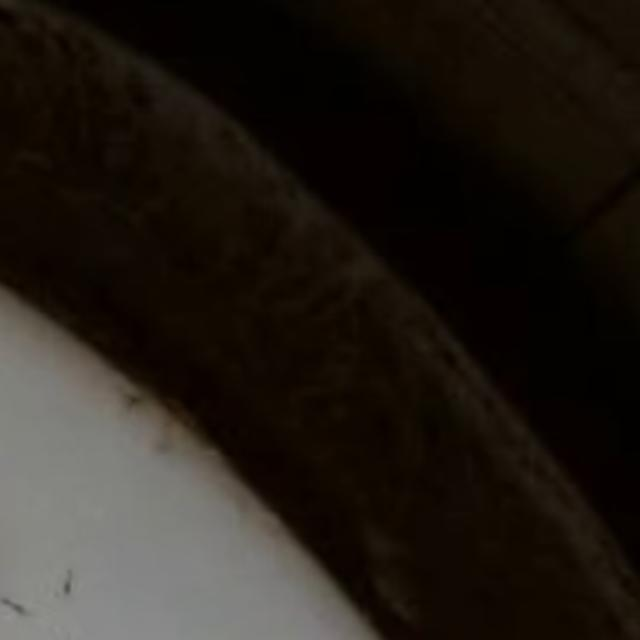shrimp-seed: (50, 563, 101, 618), (0, 581, 36, 622)
